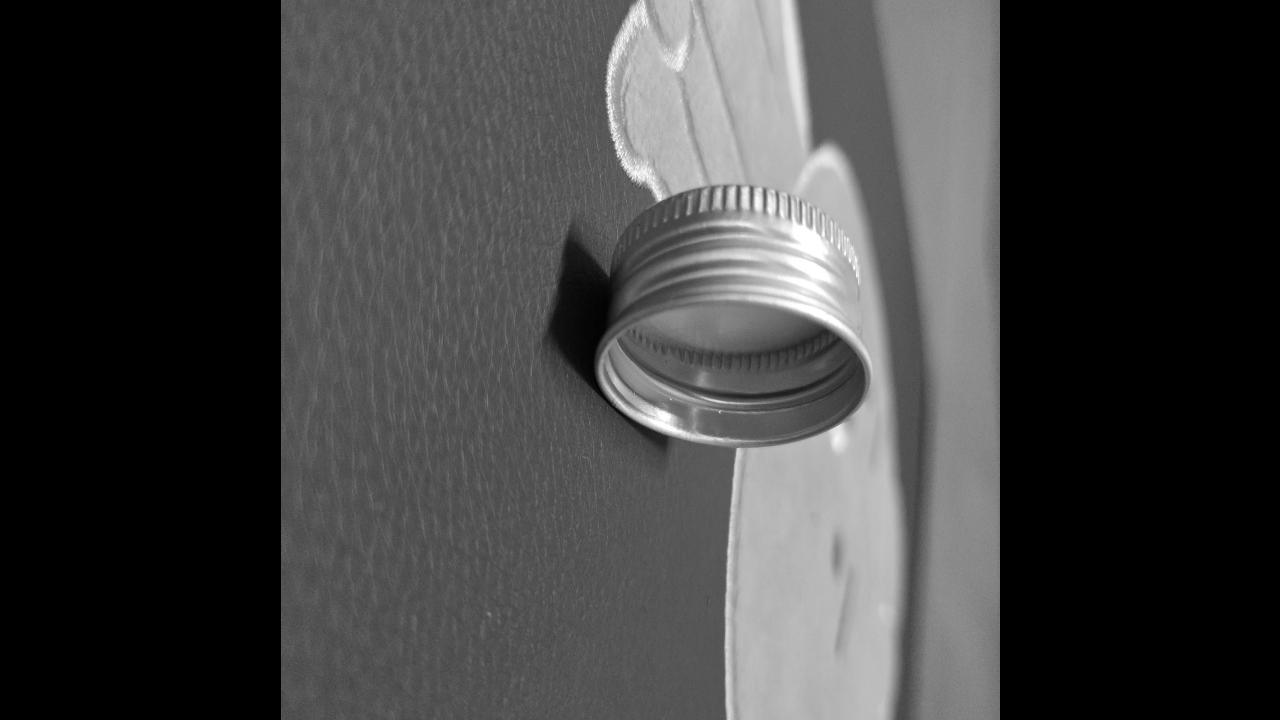bottle_cap: (590, 174, 878, 454)
